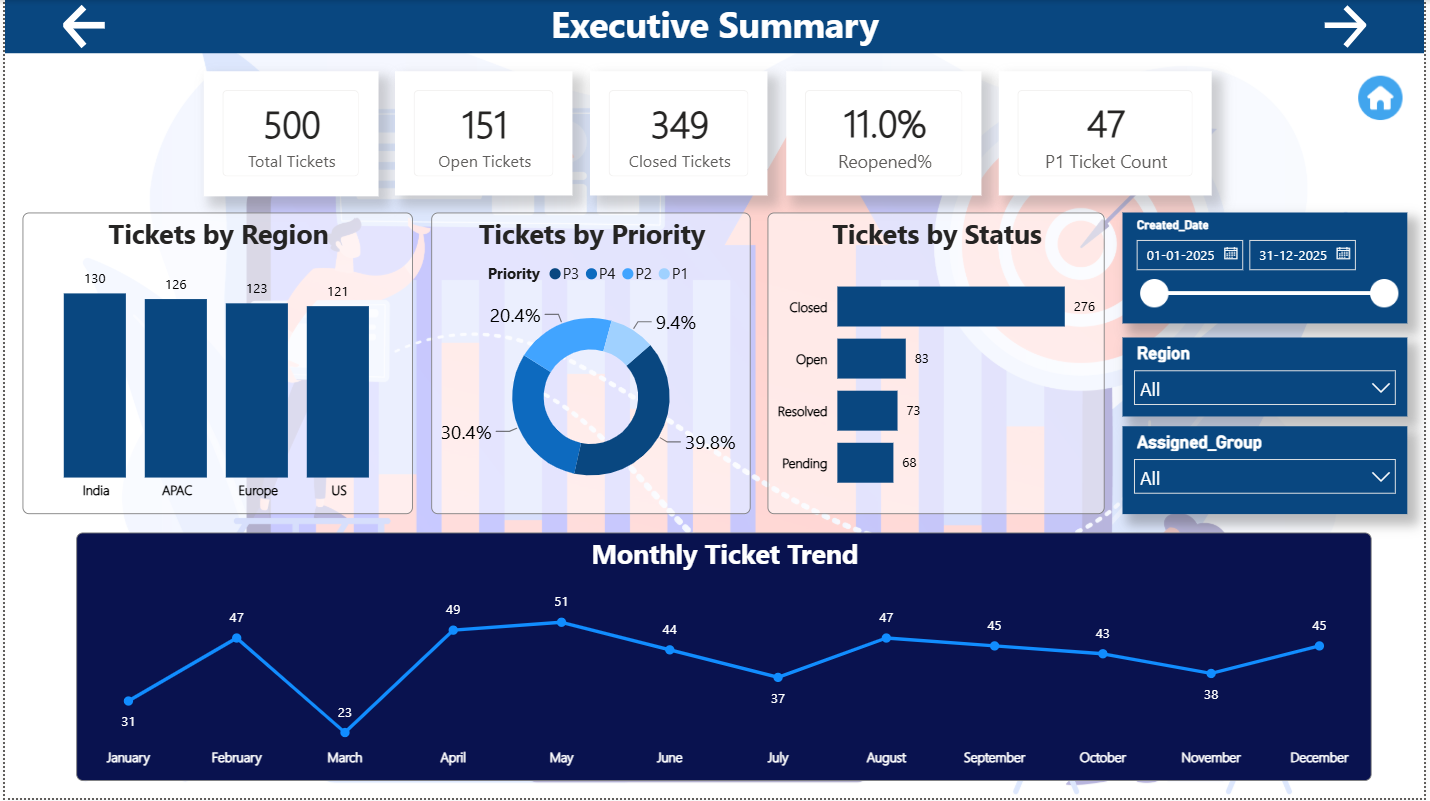

Layout of this report page (visuals, bound fields, positions):
{"tool":"powerbi","page":{"name":"Executive Summary","canvas":[1280,720],"ordinal":1},"visuals":[{"type":"cardVisual","fields":{"Data":["Incident_Data_Set.Total Tickets"]},"box":[178.8,63.8,157.5,112.5],"z":0},{"type":"cardVisual","fields":{"Data":["Incident_Data_Set.Open Tickets"]},"box":[352,64,160,112],"z":1000},{"type":"cardVisual","fields":{"Data":["Incident_Data_Set.Closed Tickets"]},"box":[528,64,160,112],"z":2000},{"type":"textbox","title":"Executive Summary","box":[0,0,1280,48],"z":3000},{"type":"actionButton","box":[48,0,96,48],"z":4000},{"type":"actionButton","box":[1184,0,96,48],"z":5000},{"type":"cardVisual","fields":{"Data":["Incident_Data_Set.Reopened%"]},"box":[704,64,176,112],"z":6000},{"type":"cardVisual","fields":{"Data":["Incident_Data_Set.P1 Ticket Count"]},"box":[896,64,192,112],"z":7000},{"type":"lineChart","title":"Monthly Ticket Trend","fields":{"Category":["Incident_Data_Set.Created_Date.Variation.Date Hierarchy.Month","Incident_Data_Set.Created_Date.Variation.Date Hierarchy.Day"],"Y":["Incident_Data_Set.Total Tickets"]},"box":[64,480,1168,224],"z":8000},{"type":"donutChart","title":"Tickets by Priority","fields":{"Category":["Incident_Data_Set.Priority"],"Y":["Incident_Data_Set.Total Tickets"]},"box":[384,192,288,272],"z":9000},{"type":"clusteredBarChart","title":"Tickets by Status","fields":{"Category":["Incident_Data_Set.Status"],"Y":["Incident_Data_Set.Total Tickets"]},"box":[688,192,304,272],"z":10000},{"type":"columnChart","title":"Tickets by Region","fields":{"Category":["Incident_Data_Set.Region"],"Y":["Incident_Data_Set.Total Tickets"]},"box":[16,192,352,272],"z":11000},{"type":"slicer","fields":{"Values":["Incident_Data_Set.Created_Date"]},"box":[1007.6,192,256.8,100.3],"z":12000},{"type":"slicer","fields":{"Values":["Incident_Data_Set.Region"]},"box":[1007.6,304.5,256.8,70.9],"z":15000},{"type":"slicer","fields":{"Values":["Incident_Data_Set.Assigned_Group"]},"box":[1007.6,384,256.8,79.5],"z":16000},{"type":"actionButton","box":[1216,64,48,48],"z":17000}]}

Visuals, with their boxes in screenshot pixels (x1, y1, x2, y2), scaled from the page's 1280x720 canvas onto the 1430x801 screenshot:
cardVisual - Incident_Data_Set.Total Tickets: locate(200, 71, 376, 196)
cardVisual - Incident_Data_Set.Open Tickets: locate(393, 71, 572, 196)
cardVisual - Incident_Data_Set.Closed Tickets: locate(590, 71, 769, 196)
"Executive Summary" textbox: locate(0, 0, 1429, 53)
actionButton: locate(54, 0, 161, 53)
actionButton: locate(1323, 0, 1429, 53)
cardVisual - Incident_Data_Set.Reopened%: locate(786, 71, 983, 196)
cardVisual - Incident_Data_Set.P1 Ticket Count: locate(1001, 71, 1216, 196)
"Monthly Ticket Trend" lineChart: locate(72, 534, 1376, 783)
"Tickets by Priority" donutChart: locate(429, 214, 751, 516)
"Tickets by Status" clusteredBarChart: locate(769, 214, 1108, 516)
"Tickets by Region" columnChart: locate(18, 214, 411, 516)
slicer - Incident_Data_Set.Created_Date: locate(1126, 214, 1413, 325)
slicer - Incident_Data_Set.Region: locate(1126, 339, 1413, 418)
slicer - Incident_Data_Set.Assigned_Group: locate(1126, 427, 1413, 516)
actionButton: locate(1358, 71, 1412, 125)
